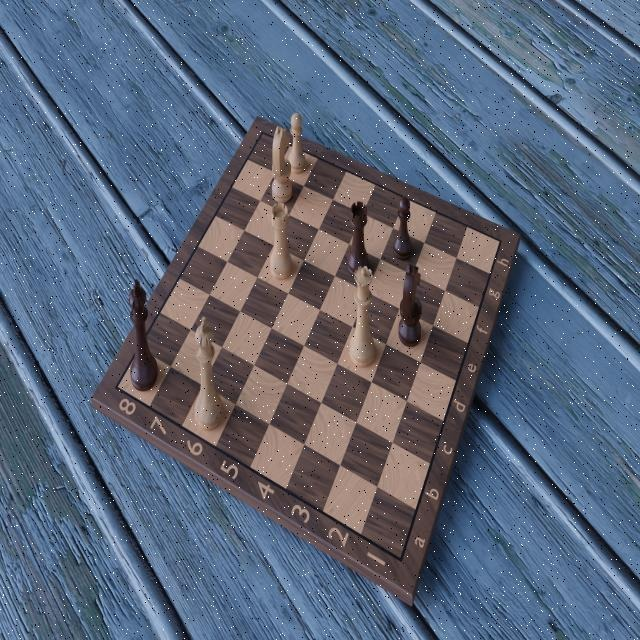black-king: (127, 277, 161, 394)
black-knight: (396, 261, 423, 350)
black-pawn: (391, 194, 413, 262)
black-rook: (346, 199, 370, 277)
white-king: (193, 310, 227, 437)
white-knight: (269, 122, 294, 206)
white-pawn: (285, 108, 309, 176)
white-queen: (348, 263, 379, 371)
white-rook: (269, 199, 295, 282)
